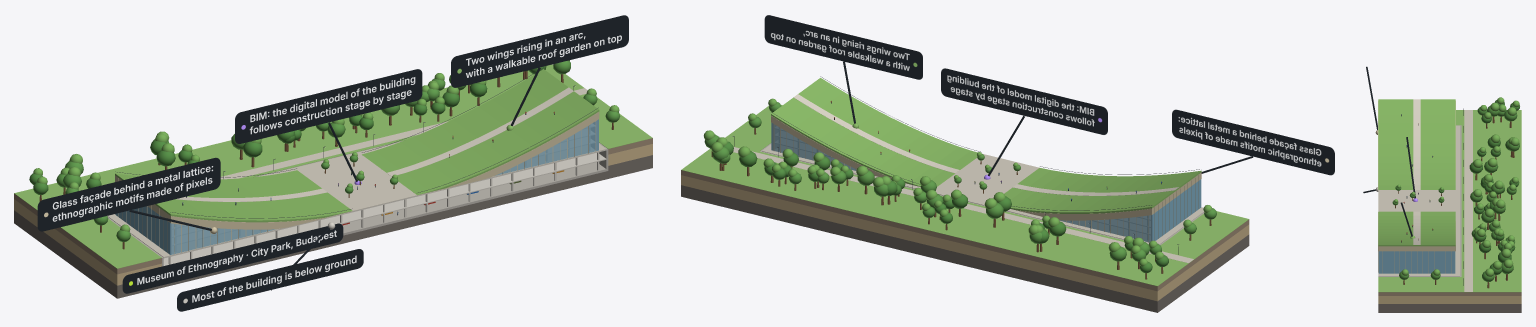
File: bim-epitkezes-feliratok-en.glb
The picture shows the model from 3 angles, left to right: view 1: azimuth 30°, elevation 25°; view 2: azimuth 150°, elevation 25°; view 3: azimuth 270°, elevation 25°; orthographic projection. The views are drawn at different scales.
Parts seen in each view (by area): view 1: teto_m_86b862 (×2), liget_m_8fbf6a, label_9, label_6, label_0, ter_m_cfc9bb, liget_m_77706a, pince_m_d5d1c8, homl_m_7fb0c8_t (×2), nevtabla, label_3, godor_m_b9b5ad (+10 smaller); view 2: liget_m_8fbf6a, teto_m_86b862 (×2), liget_m_77706a, liget_m_c9b48c, label_9, label_6, label_0, ter_m_cfc9bb, homl_m_7fb0c8_t (×2), liget_m_74ad55, liget_m_a08d77, liget_m_5a9647 (+6 smaller); view 3: teto_m_86b862 (×2), liget_m_8fbf6a, ter_m_cfc9bb, liget_m_74ad55, homl_m_7fb0c8_t, liget_m_d3cdbf, liget_m_77706a, liget_m_5a9647, liget_m_c9b48c, liget_m_4f8a40, teto_m_d9d3c5 (×2), homl_m_cfc3a4 (×2) (+5 smaller).
Part boxes in pixels (box(x1,y1,x2,y2)): teto_m_86b862 (×2): box(115, 69, 599, 222); liget_m_8fbf6a: box(14, 64, 652, 268); label_9: box(235, 69, 422, 143); label_6: box(37, 157, 220, 231); label_0: box(451, 15, 628, 87); ter_m_cfc9bb: box(107, 142, 606, 257); liget_m_77706a: box(14, 155, 652, 298); pince_m_d5d1c8: box(163, 149, 606, 265); homl_m_7fb0c8_t (×2): box(115, 119, 598, 254); nevtabla: box(122, 223, 343, 293); label_3: box(177, 249, 363, 311); godor_m_b9b5ad: box(108, 140, 608, 266); liget_m_8fbf6a: box(681, 105, 1248, 286); teto_m_86b862 (×2): box(771, 78, 1201, 213); liget_m_77706a: box(681, 185, 1249, 312); liget_m_c9b48c: box(681, 175, 1249, 301); label_9: box(941, 68, 1107, 134); label_6: box(1172, 109, 1334, 175); label_0: box(764, 15, 922, 79); ter_m_cfc9bb: box(762, 144, 1203, 244); homl_m_7fb0c8_t (×2): box(771, 122, 1201, 242); liget_m_74ad55: box(703, 98, 1212, 266); liget_m_a08d77: box(681, 170, 1249, 291); liget_m_5a9647: box(704, 102, 1216, 261); teto_m_86b862 (×2): box(1378, 99, 1455, 246); liget_m_8fbf6a: box(1378, 110, 1521, 292); ter_m_cfc9bb: box(1378, 125, 1459, 276); liget_m_74ad55: box(1401, 97, 1519, 276); homl_m_7fb0c8_t: box(1378, 251, 1455, 273); liget_m_d3cdbf: box(1464, 110, 1472, 291); liget_m_77706a: box(1378, 304, 1521, 312); liget_m_5a9647: box(1399, 105, 1519, 281); liget_m_c9b48c: box(1378, 296, 1521, 303); liget_m_4f8a40: box(1469, 100, 1519, 275); teto_m_d9d3c5 (×2): box(1413, 99, 1420, 244); homl_m_cfc3a4 (×2): box(1378, 101, 1455, 273).
Bounding box in the file's own units: 0.7276 × 0.1823 × 0.2303.
51 materials, 5 textured.
